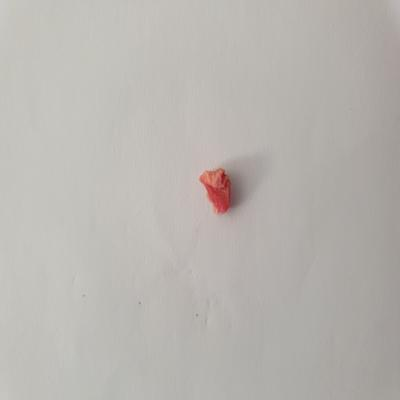plastic: (198, 163, 238, 219)
